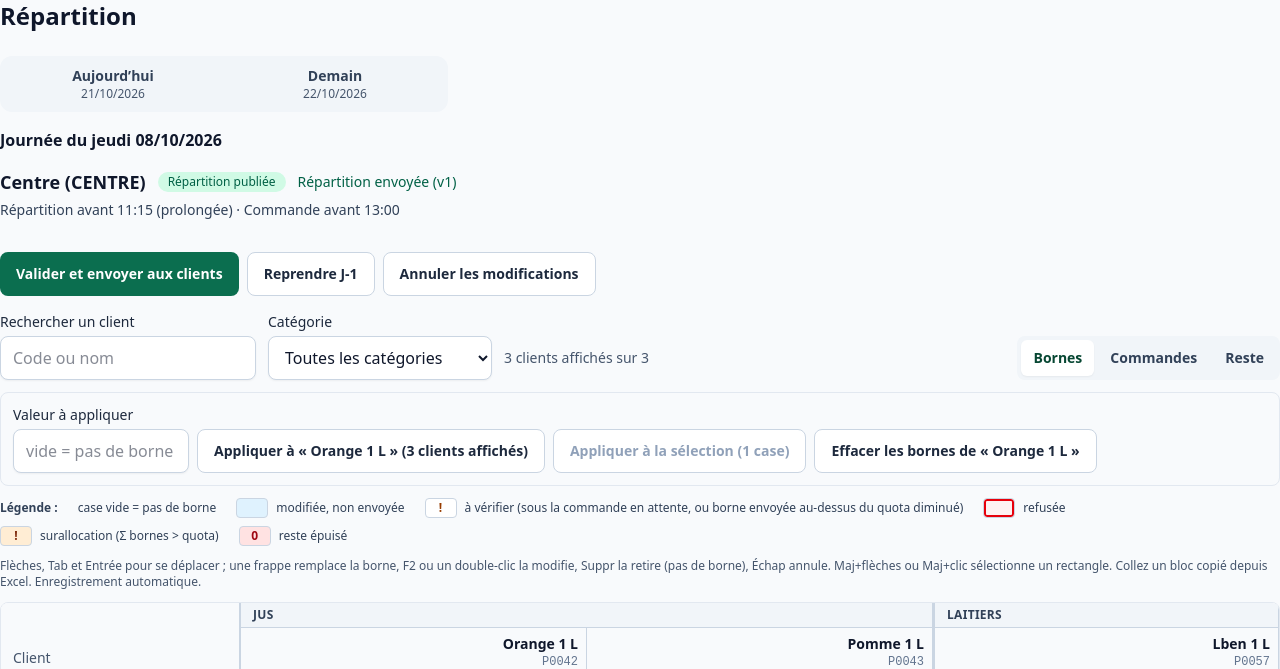
Test: distribution — « Reprendre J-1 » › copies the previous distribution, overwriting, then reloads the grid
Click the button "Reprendre J-1": (311, 274) [247,252,374,296]
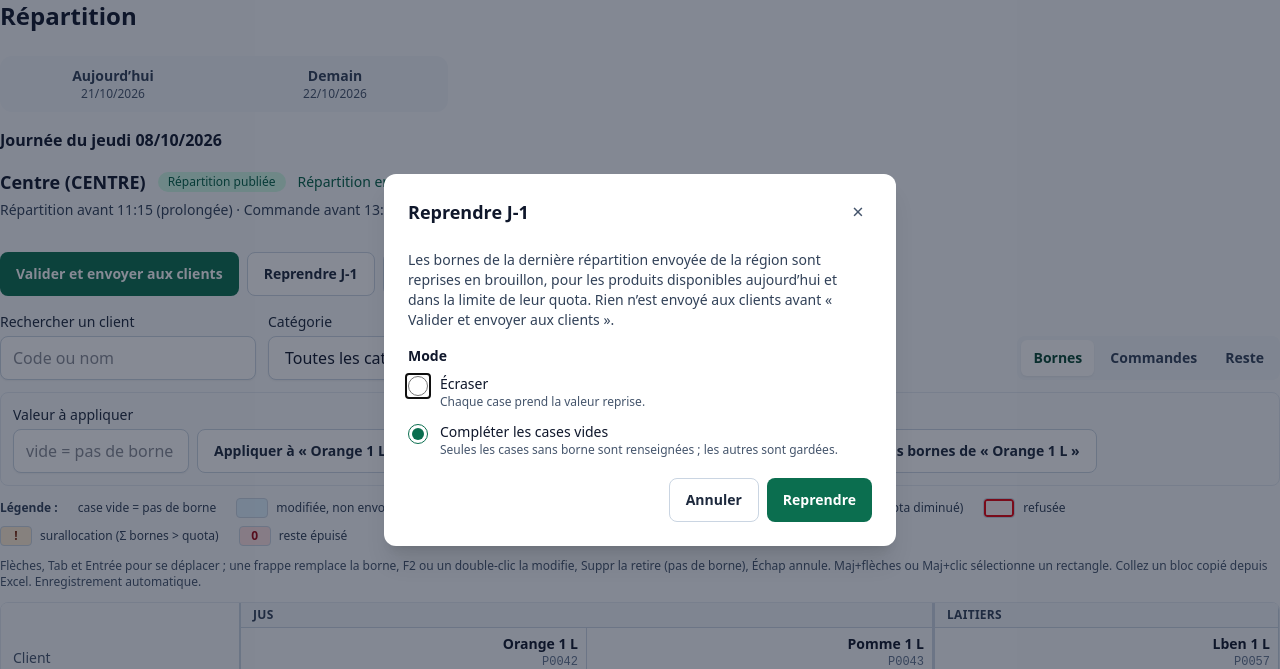
Expected: the radio button labelled "Compléter les cases vides" is checked, [408,424,428,444]
Click the radio button labelled "Écraser Chaque case prend la valeur reprise.": (418, 386) [408,376,428,396]
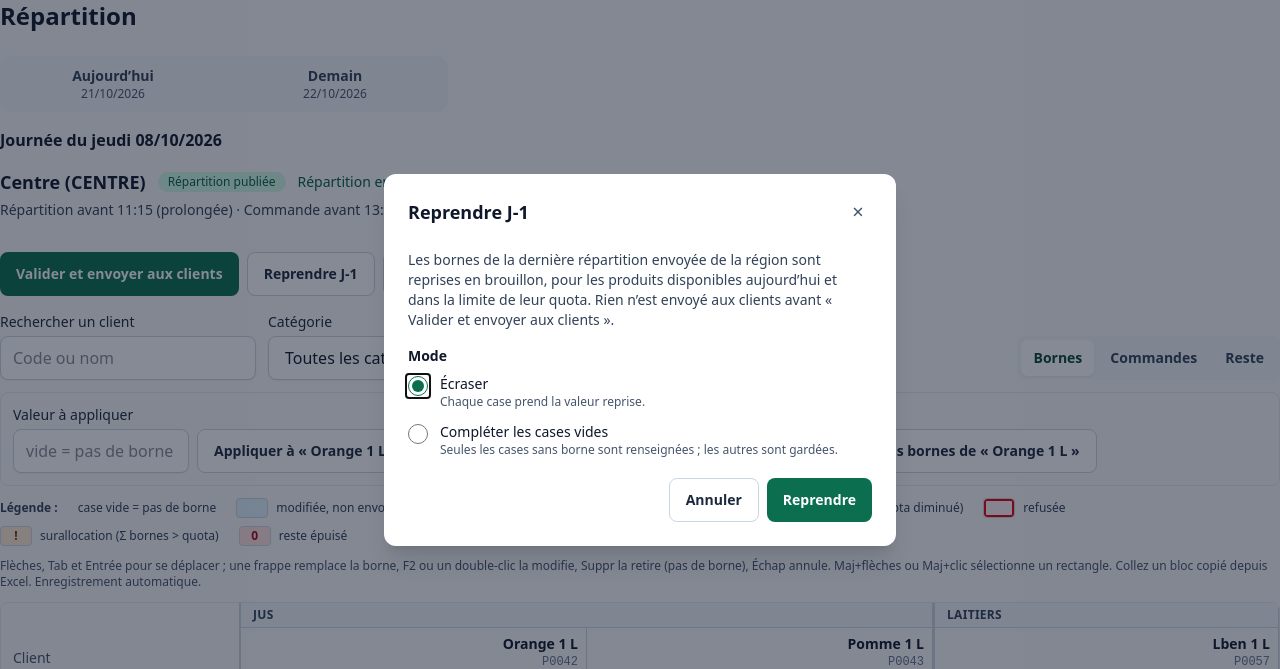
Click the button "Reprendre": (819, 500) [767,478,872,522]
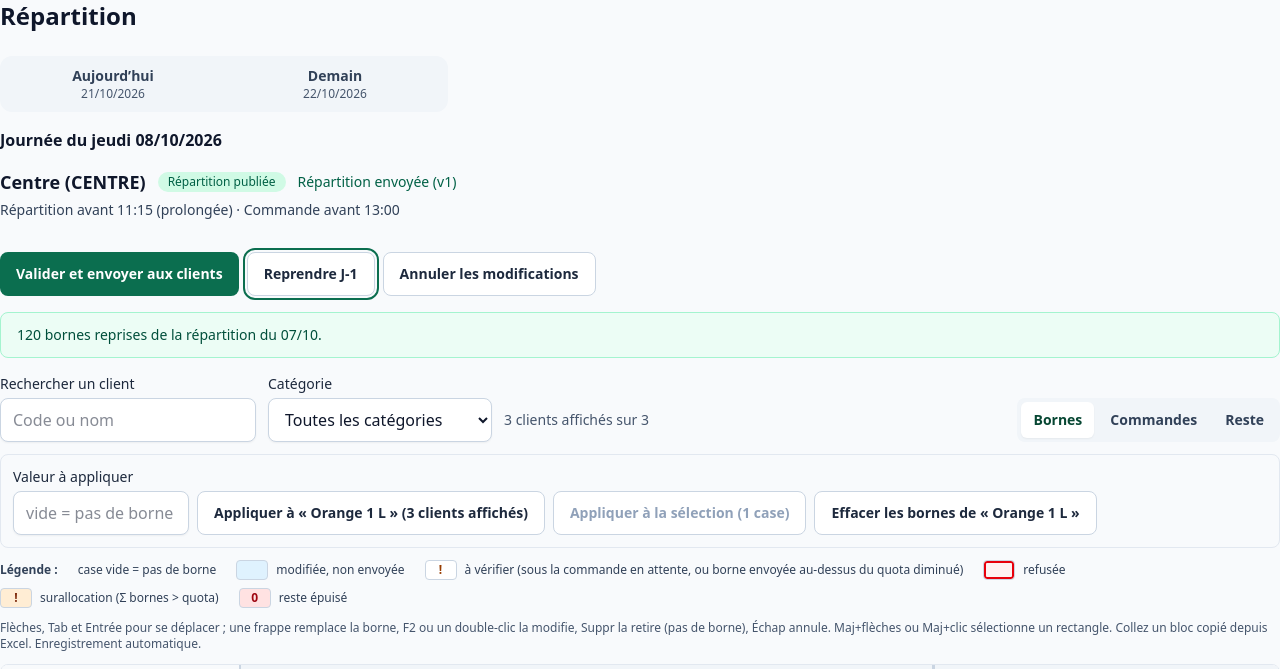
Expected: the text "120 bornes reprises de la répartition du 07/10." is shown, [0,312,1279,358]
Expected: the dialog is gone
